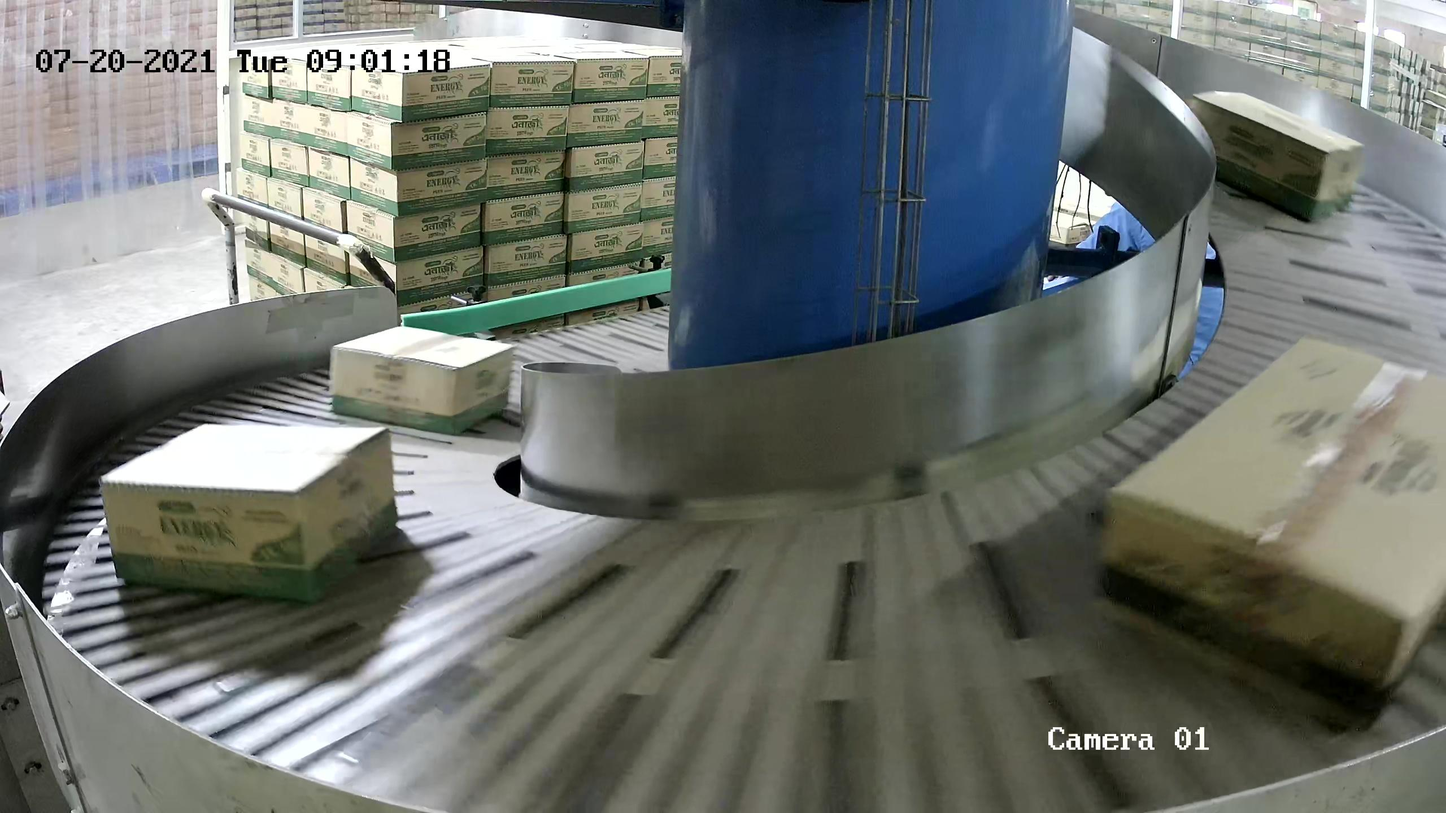Box: (1096, 333, 1446, 736), (97, 421, 401, 606), (1189, 89, 1366, 223), (328, 325, 517, 436)
